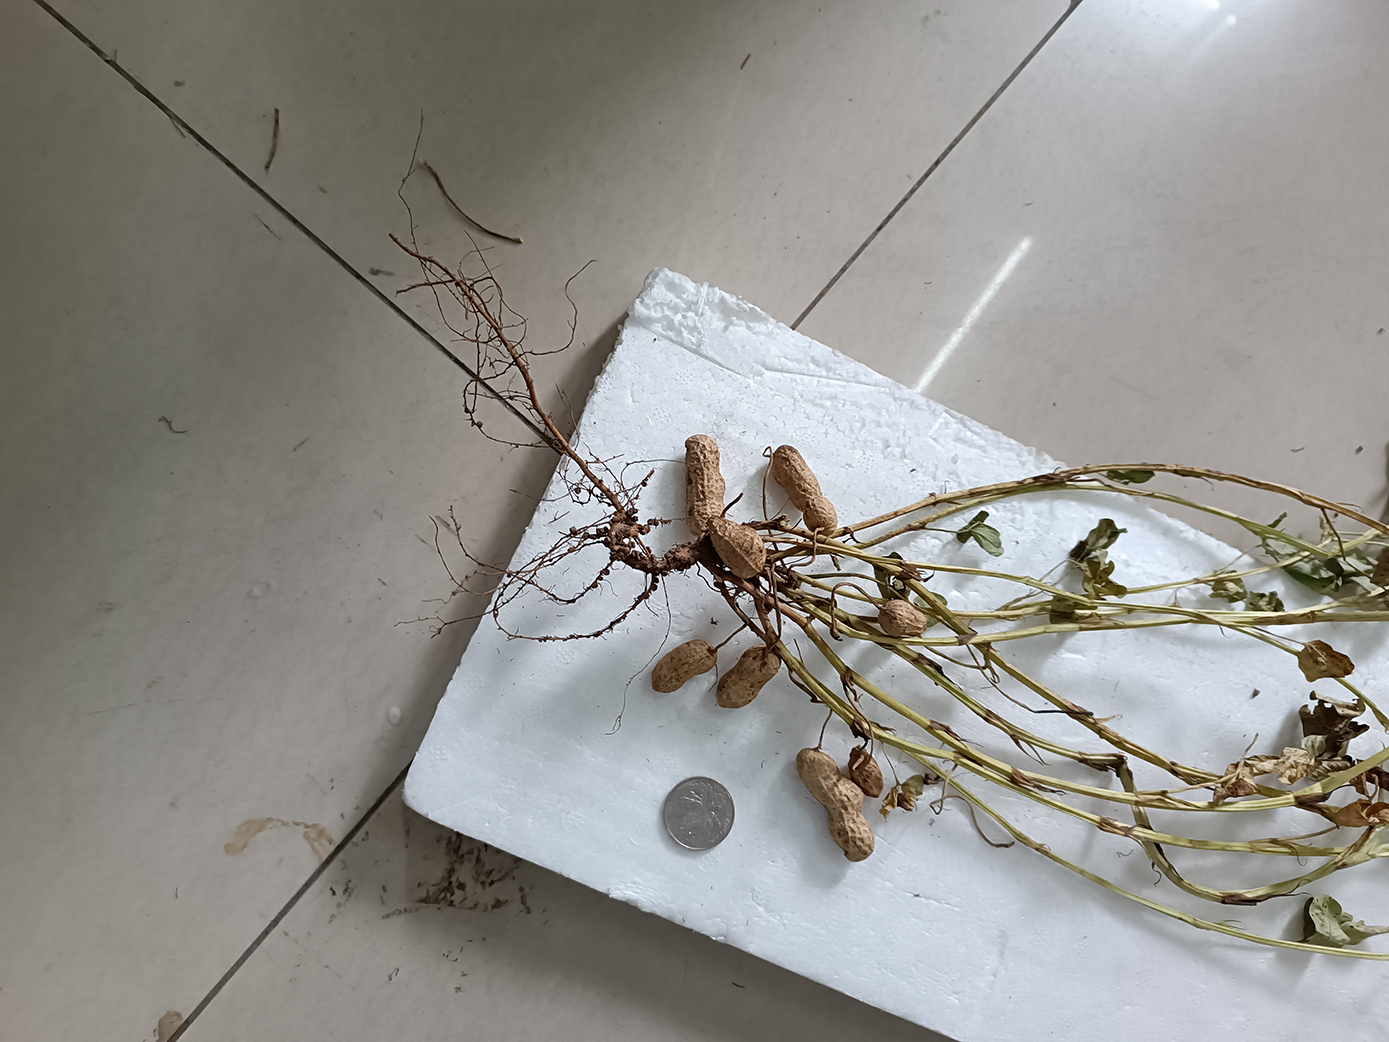h: (798, 748, 875, 862), (768, 445, 838, 535), (683, 435, 727, 535), (716, 646, 784, 708), (707, 517, 765, 576), (651, 639, 716, 691), (879, 598, 927, 637)
l: (847, 745, 883, 796)
